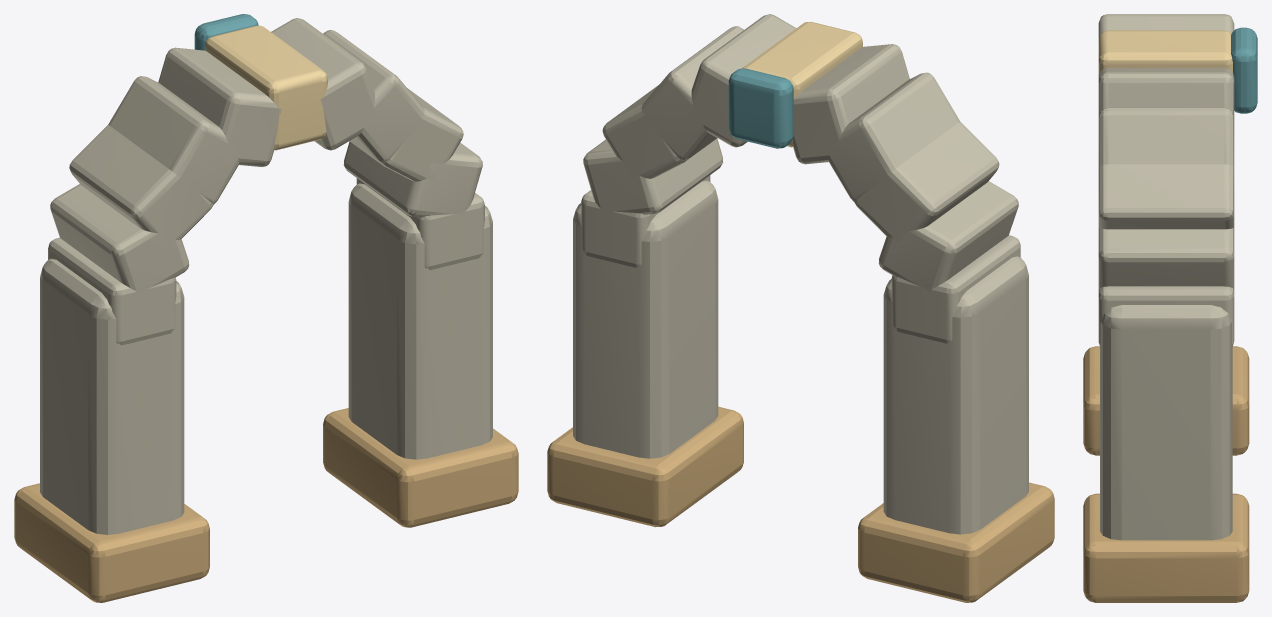
File: arch.glb
3 renders of one model, left to right at view 1: azimuth 30°, elevation 25°; view 2: azimuth 150°, elevation 25°; view 3: azimuth 270°, elevation 25°, orthographic. The views are drawn at different scales.
Visible parts, largest first — view 1: Surface_FoundryStone, Surface_Brass, Surface_PolishedRim, Surface_Enamel; view 2: Surface_FoundryStone, Surface_Brass, Surface_Enamel, Surface_PolishedRim; view 3: Surface_FoundryStone, Surface_Brass, Surface_PolishedRim, Surface_Enamel.
Boxes of the visible parts, x1=… form: Surface_FoundryStone: x1=40, y1=18, x2=492, y2=534; Surface_Brass: x1=14, y1=408, x2=518, y2=602; Surface_PolishedRim: x1=205, y1=25, x2=327, y2=150; Surface_Enamel: x1=194, y1=14, x2=258, y2=50; Surface_FoundryStone: x1=573, y1=14, x2=1028, y2=534; Surface_Brass: x1=547, y1=406, x2=1054, y2=602; Surface_Enamel: x1=728, y1=68, x2=793, y2=148; Surface_PolishedRim: x1=742, y1=21, x2=862, y2=147; Surface_FoundryStone: x1=1098, y1=14, x2=1234, y2=540; Surface_Brass: x1=1083, y1=346, x2=1249, y2=602; Surface_PolishedRim: x1=1098, y1=30, x2=1232, y2=74; Surface_Enamel: x1=1231, y1=27, x2=1257, y2=113.
Bounding box in the file's own units: 1.75 × 1.86 × 0.63.
